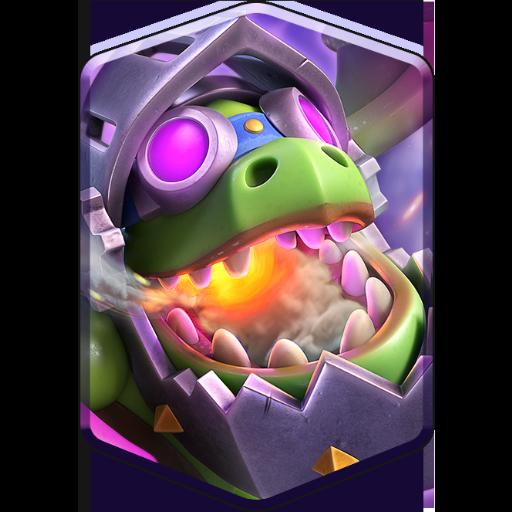inferno-dragon-evo: (86, 54, 428, 462)
